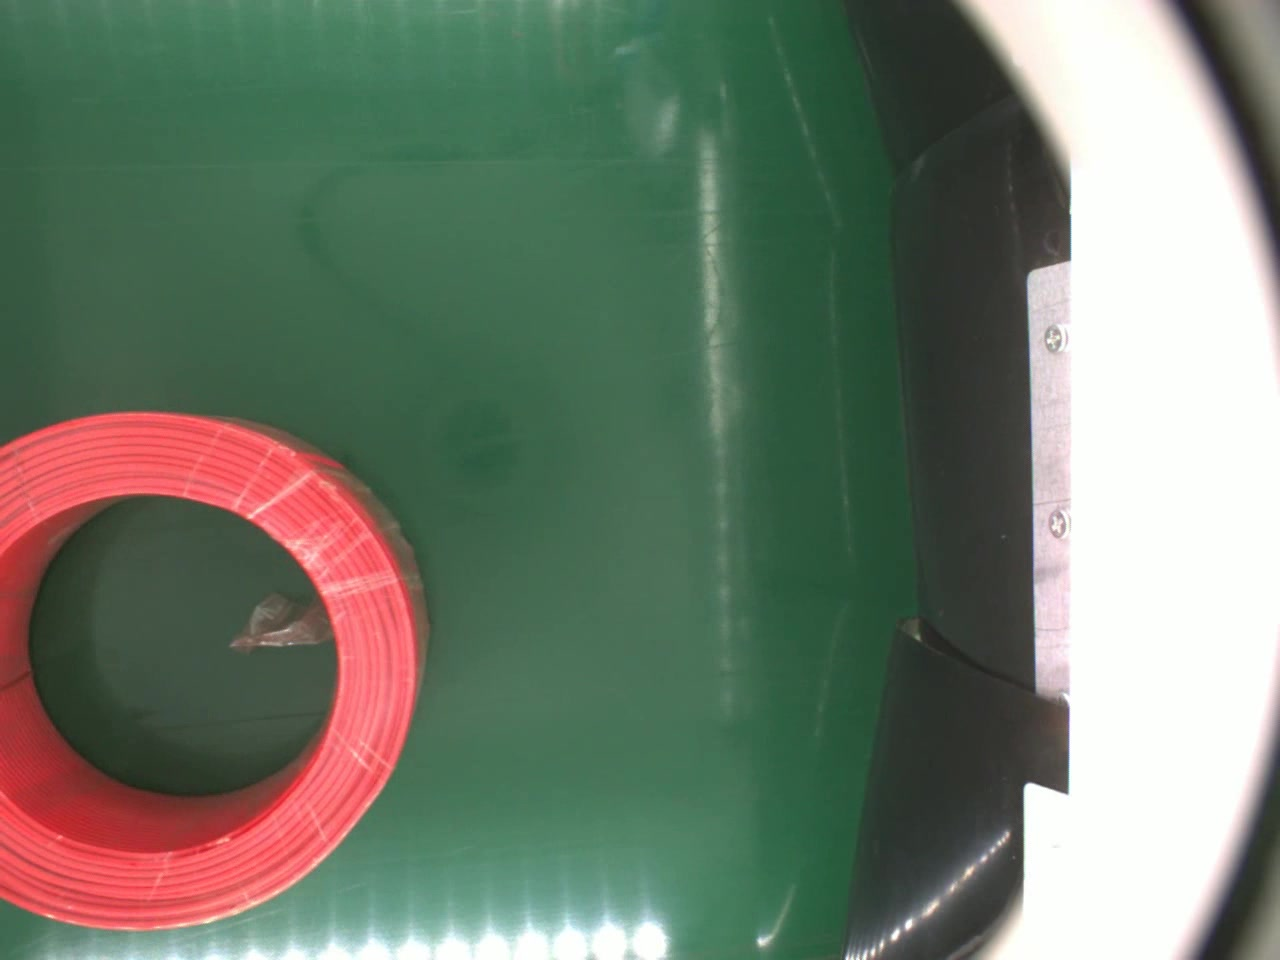red: (0, 402, 431, 934)
